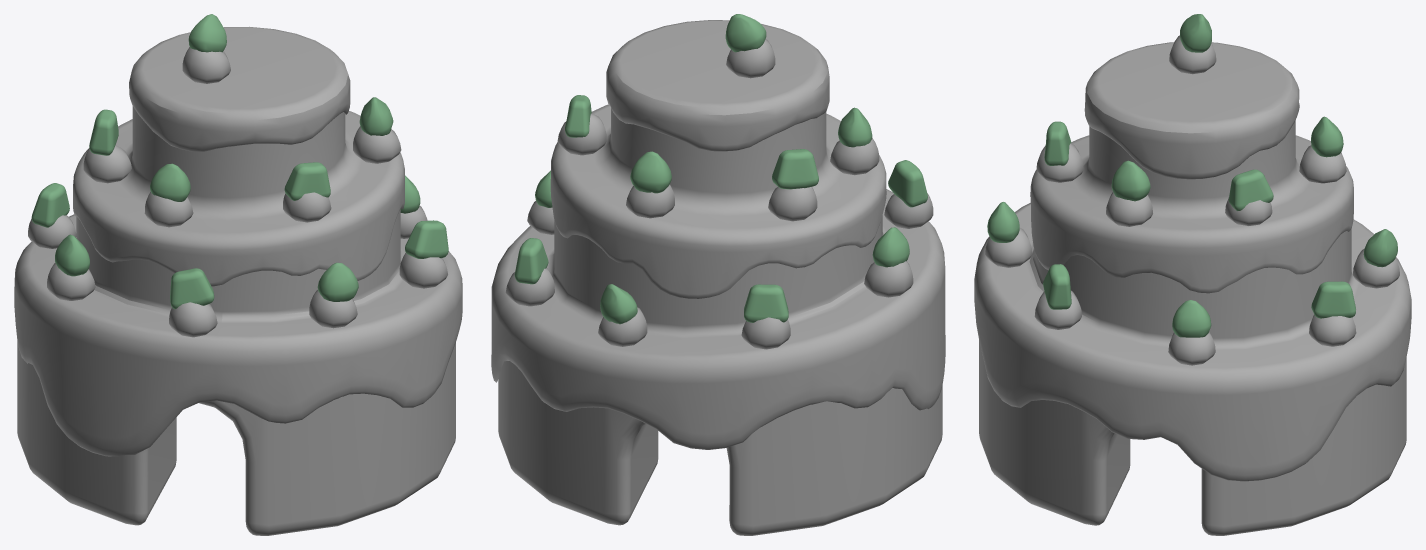
Rendered from S2_Cake.fbx.
The picture shows the model from 3 angles, left to right: view 1: azimuth 30°, elevation 25°; view 2: azimuth 150°, elevation 25°; view 3: azimuth 270°, elevation 25°; orthographic projection. The views are drawn at different scales.
Parts seen in each view (by area): view 1: S2_Cake; view 2: S2_Cake; view 3: S2_Cake.
Boxes of the visible parts, x1,y1,x2,y2 form: S2_Cake: (14, 14, 462, 535); S2_Cake: (491, 14, 945, 535); S2_Cake: (974, 14, 1411, 535).
Size of the model in its own units: 2477 by 2657 by 2477.
